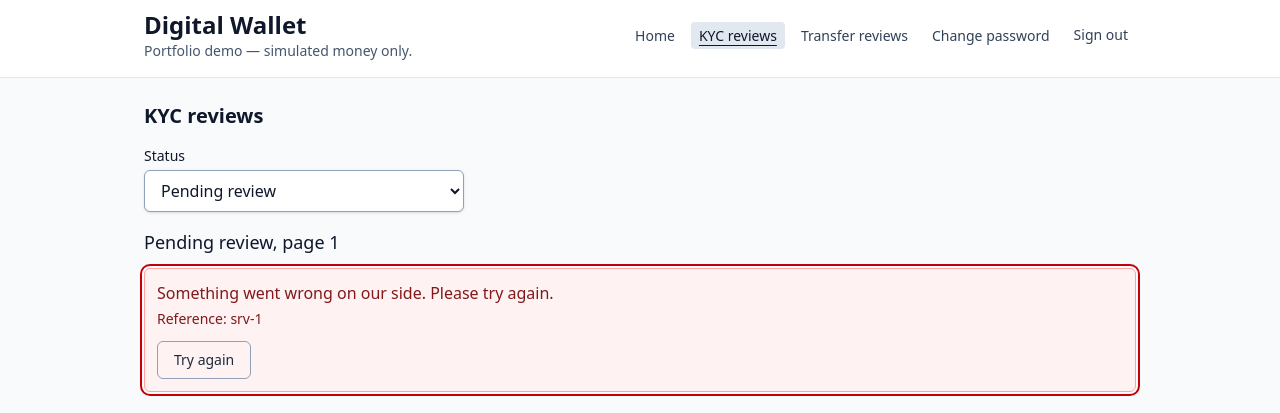
Test: KYC review queue › shows a load error with its reference and loads again on Try again
The image size is (1280, 413).
expect the message shows "Something went wrong on our side. Please try again.": met, box [157,282,554,304]
expect the message shows "Reference: srv-1": met, box [144,268,1136,392]
Click the button "Try again": (204, 360) [157,341,251,379]
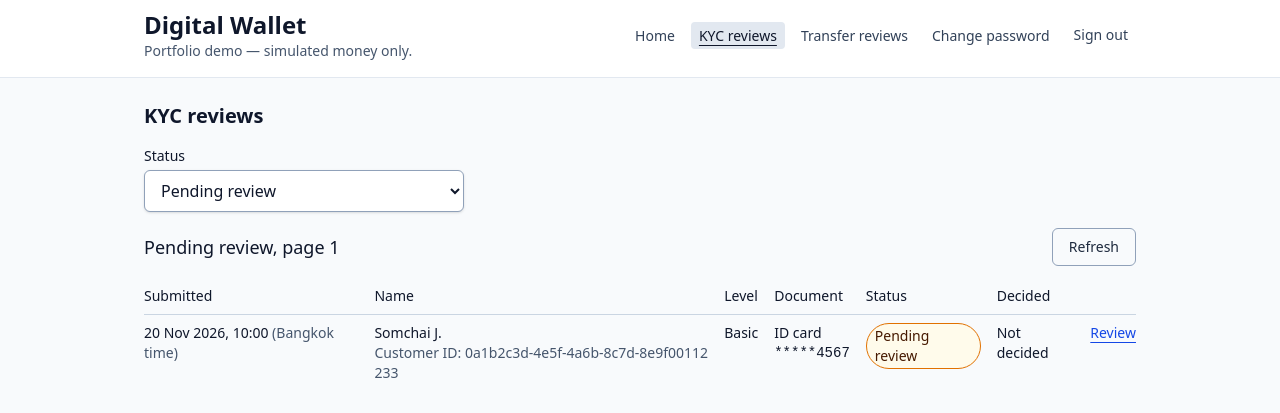
expect the text "Somchai J." is shown: met, box [374,323,442,342]
